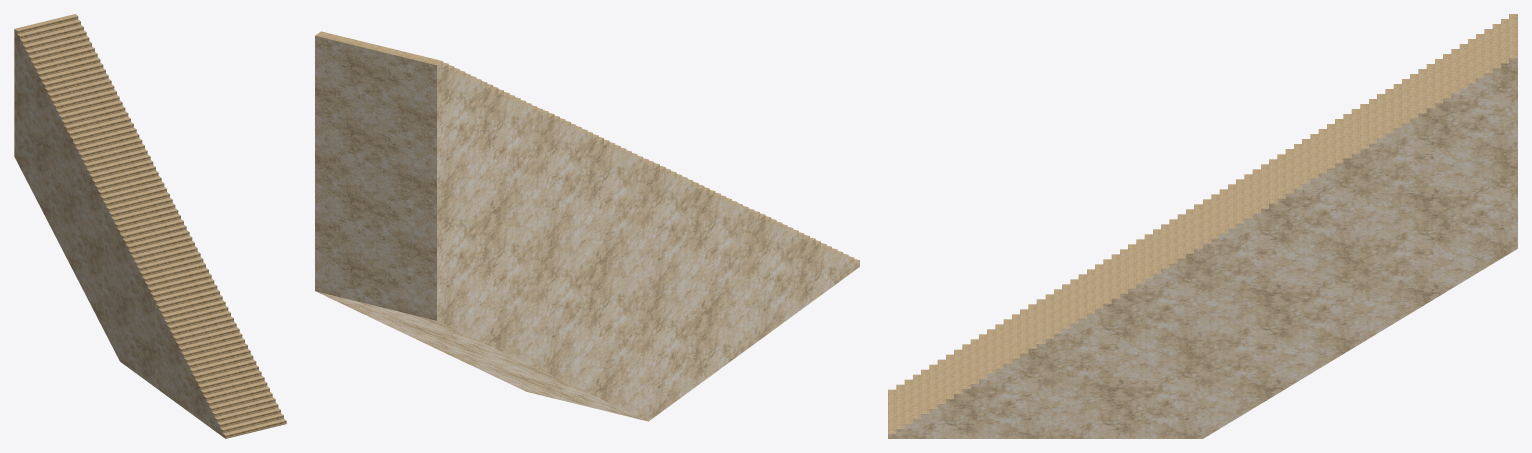
Rendered from thm_tato_imprv_stair_large_s01_l0.fbx.
3 views of the same model, side by side, from view 1: azimuth 30°, elevation 25°; view 2: azimuth 150°, elevation 25°; view 3: azimuth 270°, elevation 25° (orthographic). The views are drawn at different scales.
Visible parts, largest first — view 1: mesh_node; view 2: mesh_node; view 3: mesh_node.
Boxes of the visible parts, x1,y1,x2,y2 form: mesh_node: (14,14,286,438); mesh_node: (315,31,859,421); mesh_node: (888,14,1517,438).
Bounding box in the file's own units: 4 × 16 × 24.
